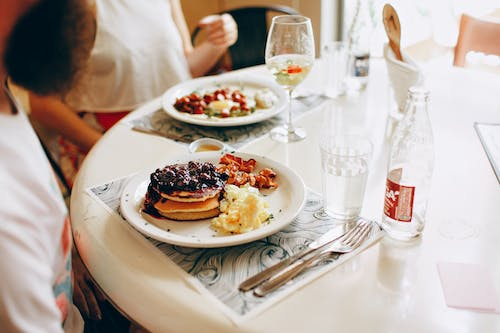alcohol: (263, 13, 316, 144)
knife: (237, 219, 361, 293)
